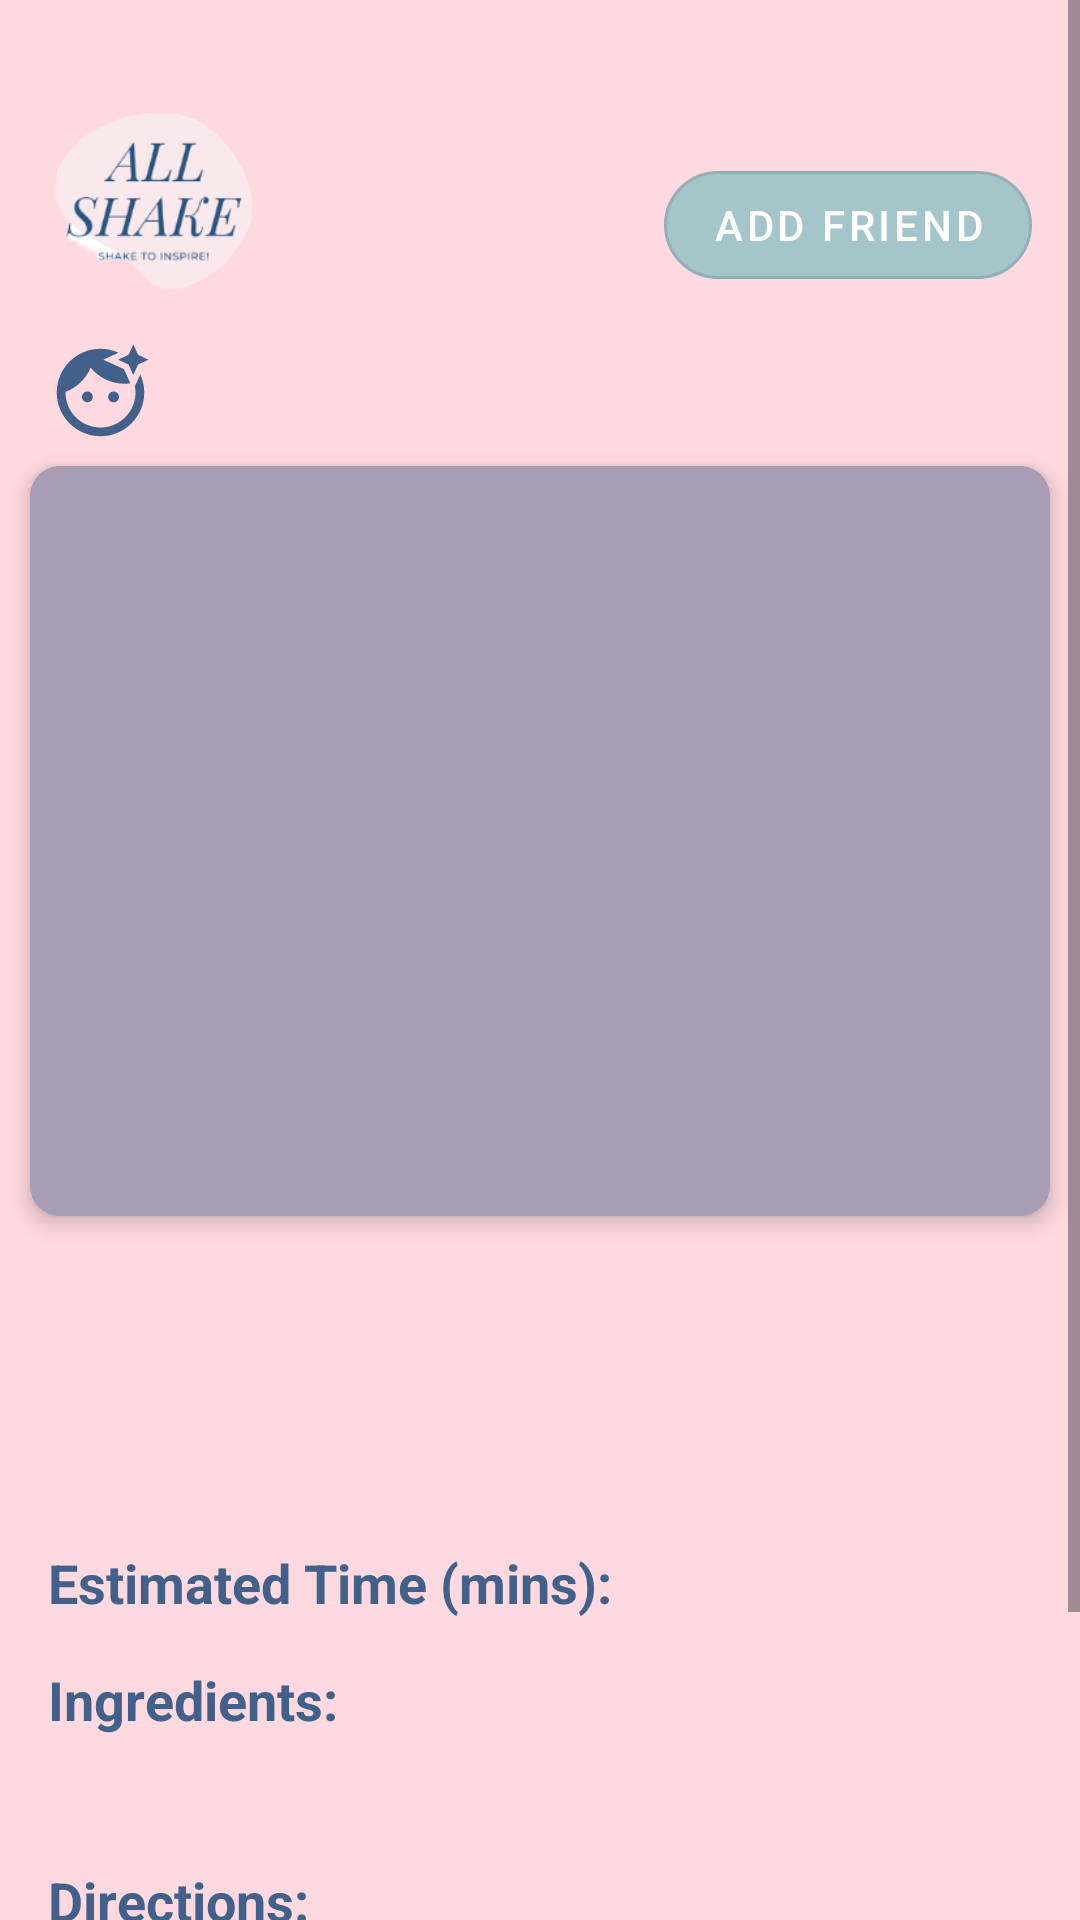

Named icons in this screenshot (1080 × 1920) and their bounding boxes, (x1, y1, x2, y2):
creatoricon: (56, 344, 149, 437)
